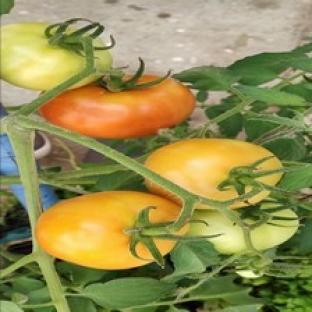Tomato: (35, 191, 181, 270), (39, 78, 194, 139), (145, 138, 282, 200), (0, 23, 84, 90), (187, 209, 246, 253)
